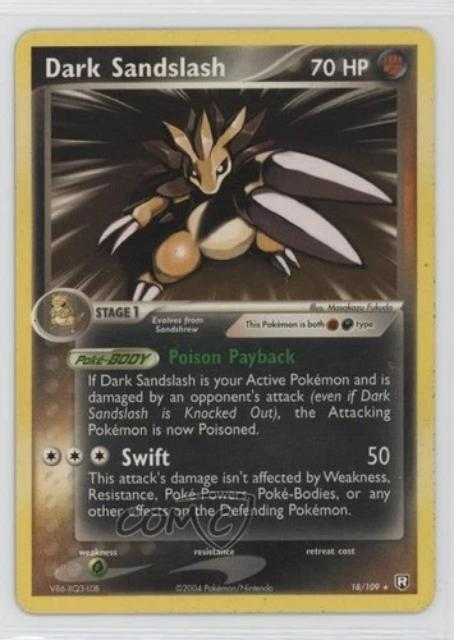Card: (6, 20, 444, 621)
Name: (35, 50, 229, 83)
